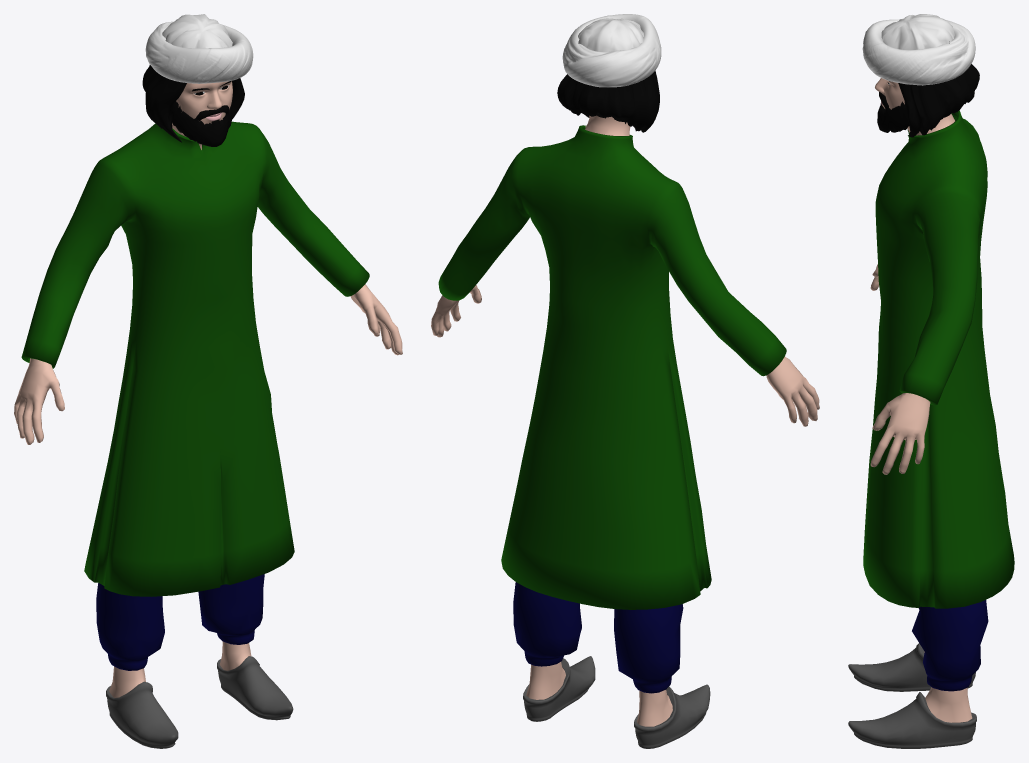
The model's file is ustadzzz.fbx.
The picture shows the model from 3 angles, left to right: view 1: azimuth 30°, elevation 25°; view 2: azimuth 150°, elevation 25°; view 3: azimuth 270°, elevation 25°; orthographic projection.
Parts seen in each view (by area): view 1: mesh; view 2: mesh; view 3: mesh.
Part boxes in pixels (x1,y1,x2,y2): mesh: (14,14,402,748); mesh: (431,14,819,748); mesh: (848,14,1014,748).
Bounding box in the file's own units: 106 × 188 × 40.68.
